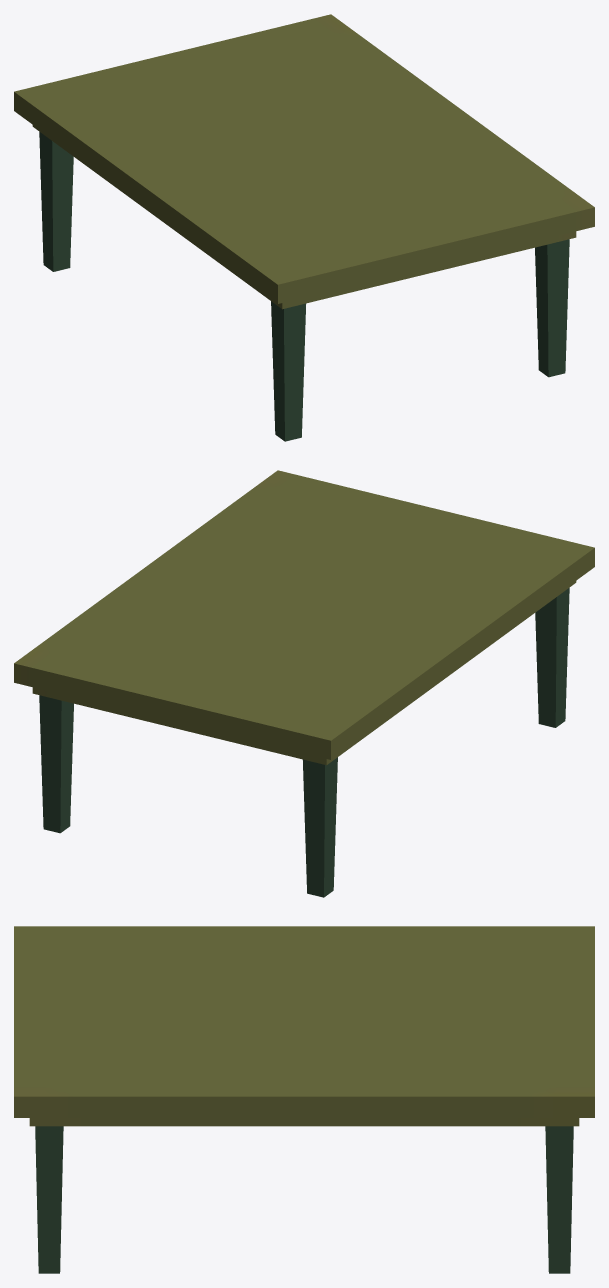
File: augur  table.fbx
3 renders of one model, top to bottom at view 1: azimuth 30°, elevation 25°; view 2: azimuth 150°, elevation 25°; view 3: azimuth 270°, elevation 25°, orthographic. The views are drawn at different scales.
Parts seen in each view (by area): view 1: augur table; view 2: augur table; view 3: augur table.
Part boxes in pixels (x1=…): augur table: x1=14, y1=14, x2=594, y2=441; augur table: x1=14, y1=470, x2=594, y2=897; augur table: x1=14, y1=926, x2=594, y2=1273.
Size of the model in its own units: 128 by 65.27 by 184.
